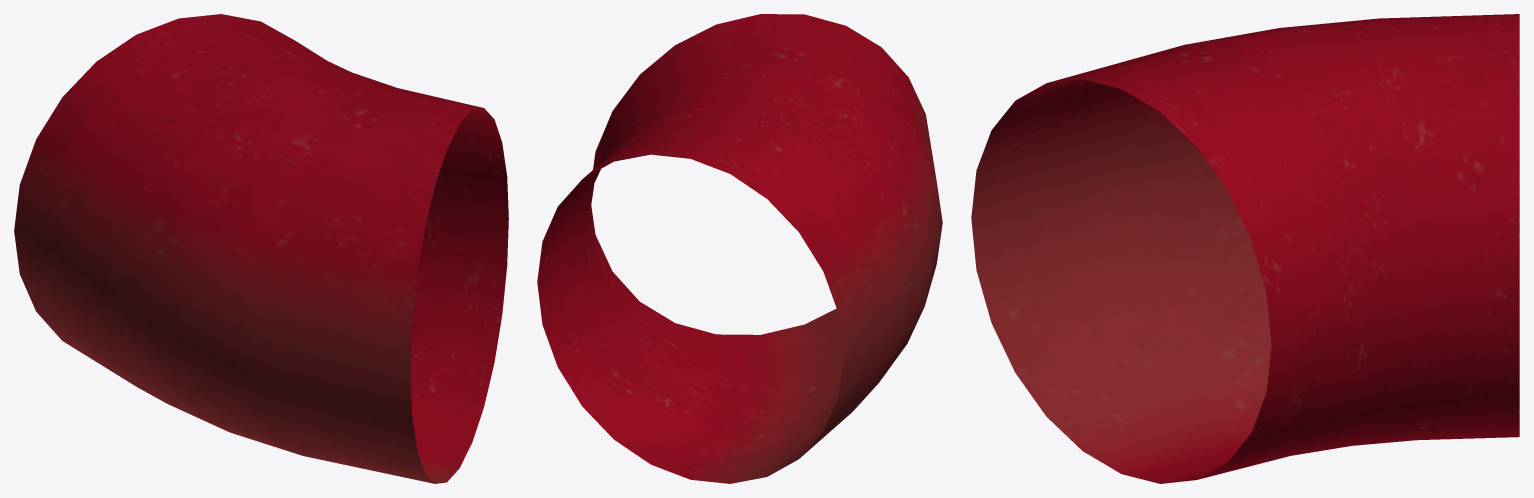
File: SM_Pipe_Angle45_01a.fbx
3 views of the same model, side by side, from view 1: azimuth 30°, elevation 25°; view 2: azimuth 150°, elevation 25°; view 3: azimuth 270°, elevation 25° (orthographic). The views are drawn at different scales.
Parts seen in each view (by area): view 1: SM_Pipe_Angle45_01a; view 2: SM_Pipe_Angle45_01a; view 3: SM_Pipe_Angle45_01a.
Boxes of the visible parts, left/top/right/bottom form: SM_Pipe_Angle45_01a: left=14, top=14, right=508, bottom=483; SM_Pipe_Angle45_01a: left=537, top=14, right=942, bottom=483; SM_Pipe_Angle45_01a: left=971, top=14, right=1519, bottom=483.
Bounding box in the file's own units: 18.66 × 20.66 × 16.
Materials: 1 (1 with a texture image).
